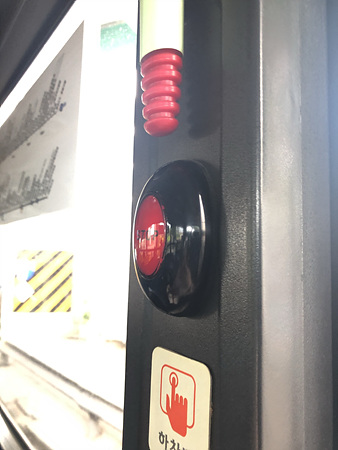bell: (134, 159, 219, 316)
